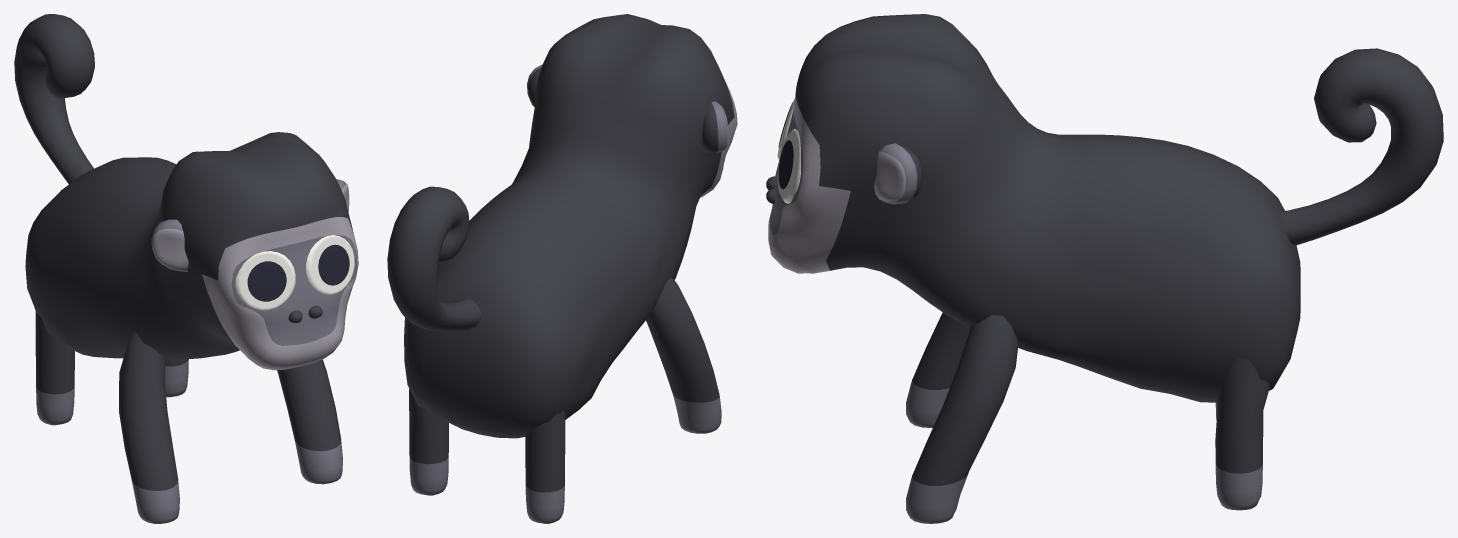
Rendered from Colobus_2.fbx.
3 views of the same model, side by side, from view 1: azimuth 30°, elevation 25°; view 2: azimuth 150°, elevation 25°; view 3: azimuth 270°, elevation 25° (orthographic). The views are drawn at different scales.
Parts seen in each view (by area): view 1: Mesh; view 2: Mesh; view 3: Mesh.
Part boxes in pixels (x1,y1,x2,y2): Mesh: [14, 14, 358, 523]; Mesh: [387, 14, 737, 523]; Mesh: [766, 14, 1443, 523].
Bounding box in the file's own units: 120 × 201 × 284.
